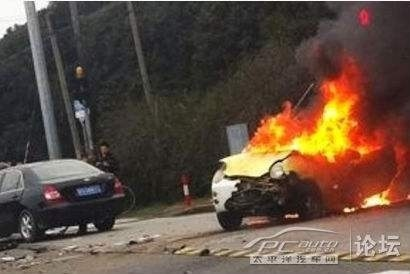fire: (226, 69, 404, 199)
